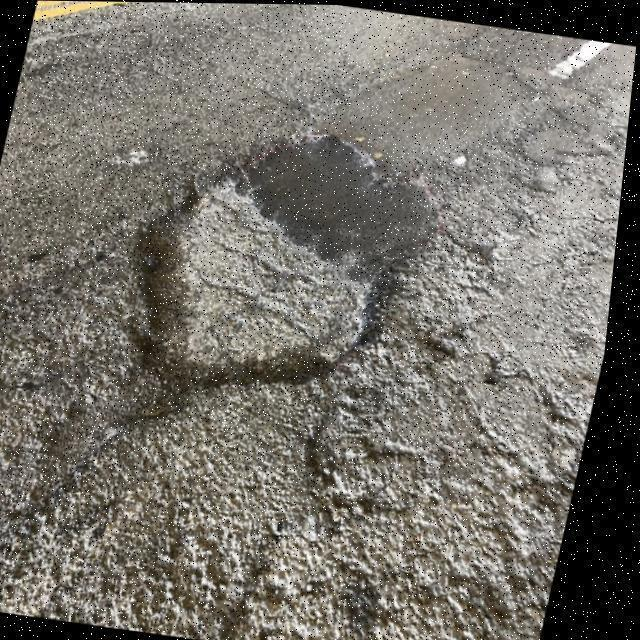Pothole: (135, 135, 438, 383)
